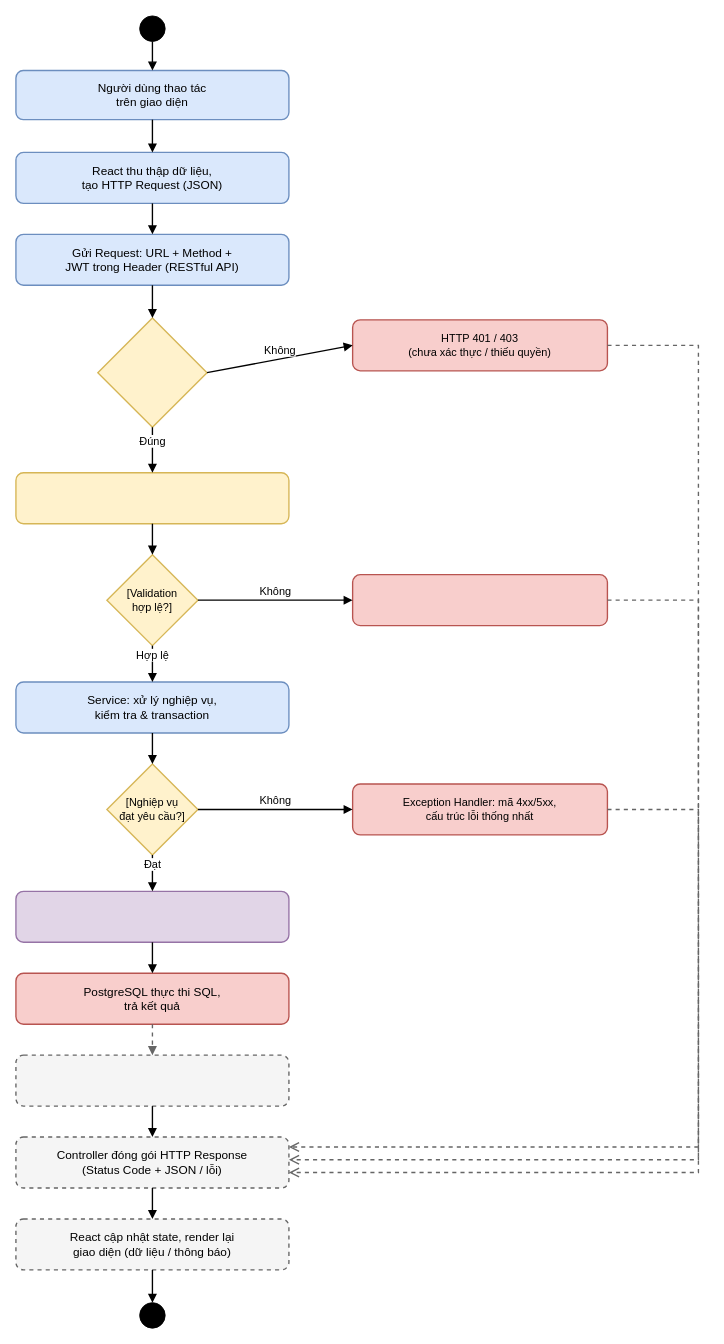
This 724x1344 diagram has some shape labels left out. Here are the shapes that lost their labels. From the top down, the centre of each, then its label:
the point at 152,372: [Security: JWT hợp lệ & đủ quyền?]
the point at 152,498: Controller tiếp nhận, ánh xạ DTO, điều phối
the point at 480,600: HTTP 400 (dữ liệu không hợp lệ — Validation)
the point at 152,916: Repository thao tác dữ liệu (Spring Data JPA)
the point at 152,1080: Response trả ngược qua các tầng: Repository → Service → Controller
